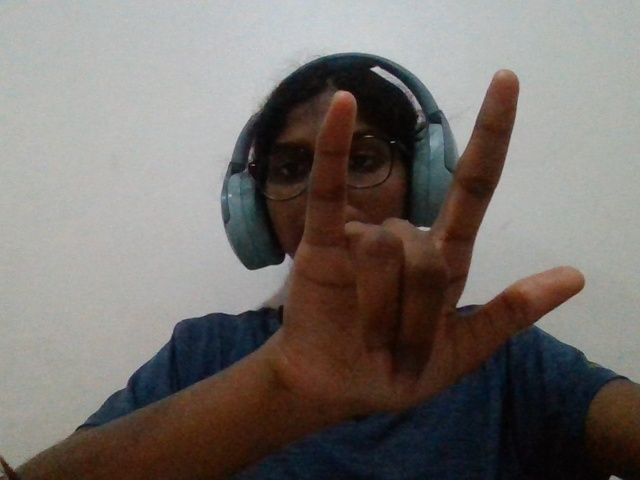I Love You: (262, 41, 602, 428)
